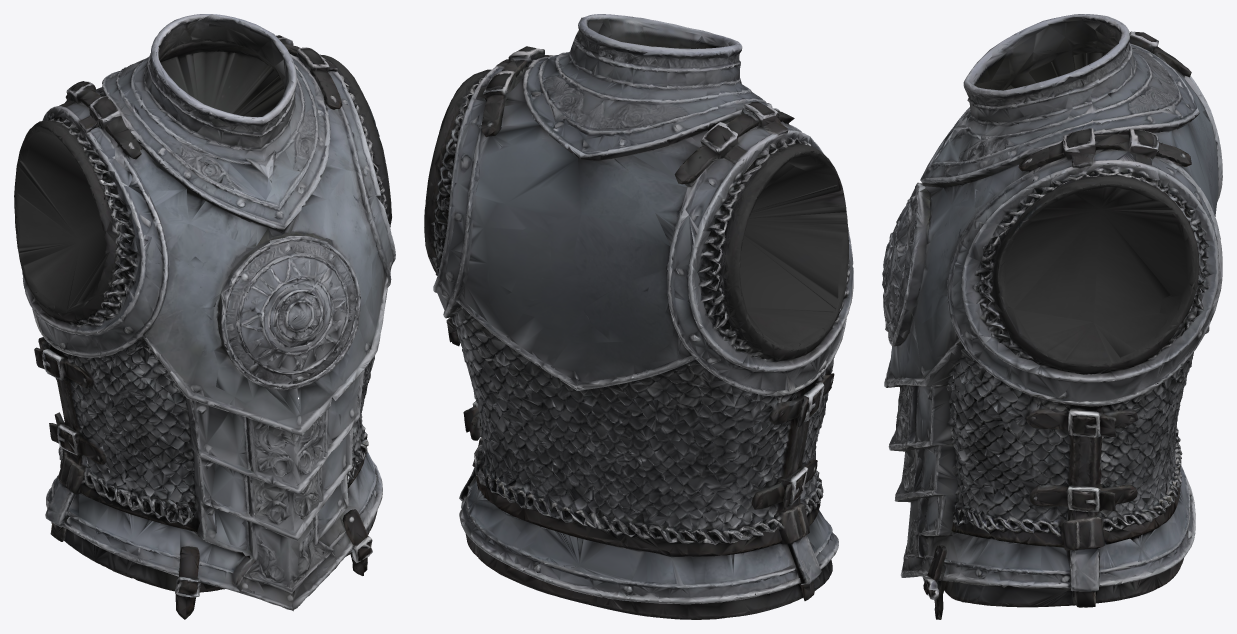
The model's file is eq_chest.glb.
The picture shows the model from 3 angles, left to right: view 1: azimuth 30°, elevation 25°; view 2: azimuth 150°, elevation 25°; view 3: azimuth 270°, elevation 25°; orthographic projection. The views are drawn at different scales.
Parts seen in each view (by area): view 1: tripo_node_7b524549-00a1-4940-9a9b-c9386d834d3e; view 2: tripo_node_7b524549-00a1-4940-9a9b-c9386d834d3e; view 3: tripo_node_7b524549-00a1-4940-9a9b-c9386d834d3e.
Boxes of the visible parts, x1,y1,x2,y2 form: tripo_node_7b524549-00a1-4940-9a9b-c9386d834d3e: [14, 14, 395, 619]; tripo_node_7b524549-00a1-4940-9a9b-c9386d834d3e: [424, 14, 853, 619]; tripo_node_7b524549-00a1-4940-9a9b-c9386d834d3e: [882, 14, 1222, 619].
Bounding box in the file's own units: 0.3999 × 0.62 × 0.3507.
1 material, 1 textured.
